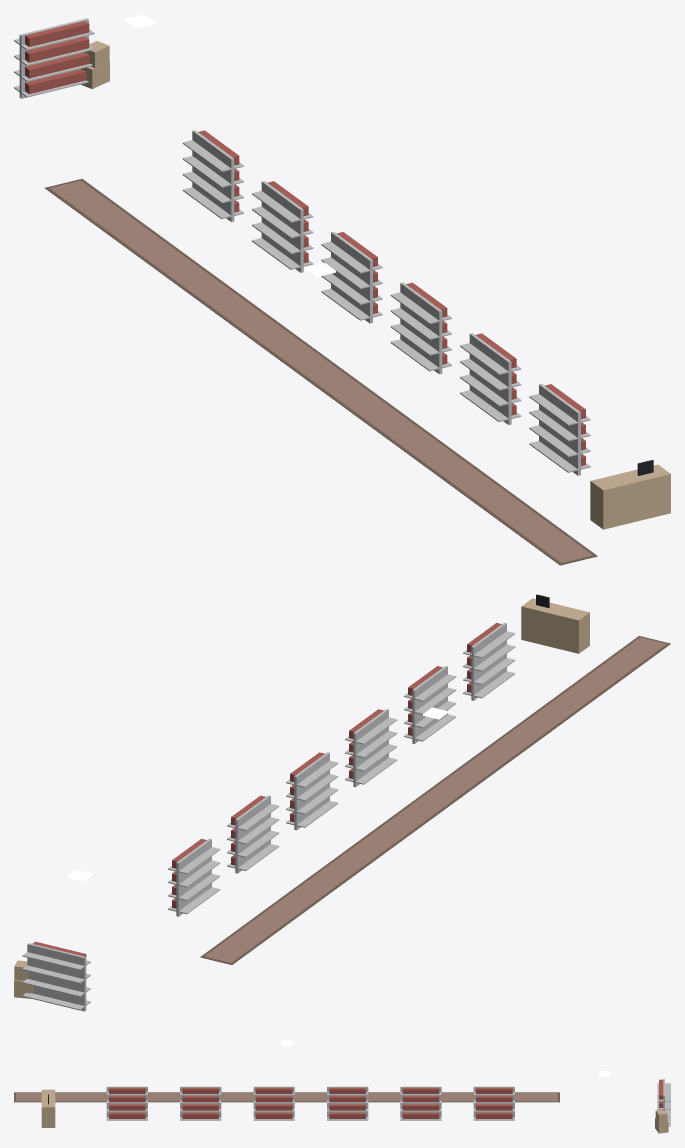
The model's file is fine-s0.glb.
3 renders of one model, top to bottom at view 1: azimuth 30°, elevation 25°; view 2: azimuth 150°, elevation 25°; view 3: azimuth 270°, elevation 25°, orthographic. The views are drawn at different scales.
Parts seen in each view (by area): view 1: soft-s0, shelving.000, shop-counter.000, shelf.001, shelf.004, shelf.003, shelf.000, shelf.005, shelf.002, cardboard-box.000; view 2: soft-s0, shelving.000, shop-counter.000, shelf.002, shelf.003, shelf.005, shelf.001, shelf.000, shelf.004; view 3: soft-s0, shelf.001, shelf.000, shelf.002, shelf.003, shelf.004, shelf.005, shop-counter.000, shelving.000, cardboard-box.000.
Boxes of the visible parts, x1,y1,x2,y2 form: soft-s0: (45,179,597,565); shelving.000: (14,18,94,98); shop-counter.000: (590,460,670,529); shelf.001: (252,181,313,272); shelf.004: (460,333,521,424); shelf.003: (390,282,451,374); shelf.000: (182,130,243,221); shelf.005: (529,384,590,475); shelf.002: (321,231,382,323); cardboard-box.000: (80,41,109,88); soft-s0: (200,636,670,964); shelving.000: (22,941,90,1011); shop-counter.000: (521,594,589,653); shelf.002: (286,752,338,830); shelf.003: (345,709,397,787); shelf.005: (463,622,515,700); shelf.001: (227,795,279,873); shelf.000: (168,838,220,916); shelf.004: (404,666,456,743); soft-s0: (14,1092,559,1102); shelf.001: (400,1086,441,1120); shelf.000: (473,1086,514,1120); shelf.002: (327,1086,368,1120); shelf.003: (253,1086,294,1120); shelf.004: (180,1086,221,1120); shelf.005: (106,1086,147,1120); shop-counter.000: (41,1089,55,1127); shelving.000: (657,1078,670,1126); cardboard-box.000: (655,1110,668,1133).
Size of the model in its own units: 4.23 by 2.64 by 28.64.
